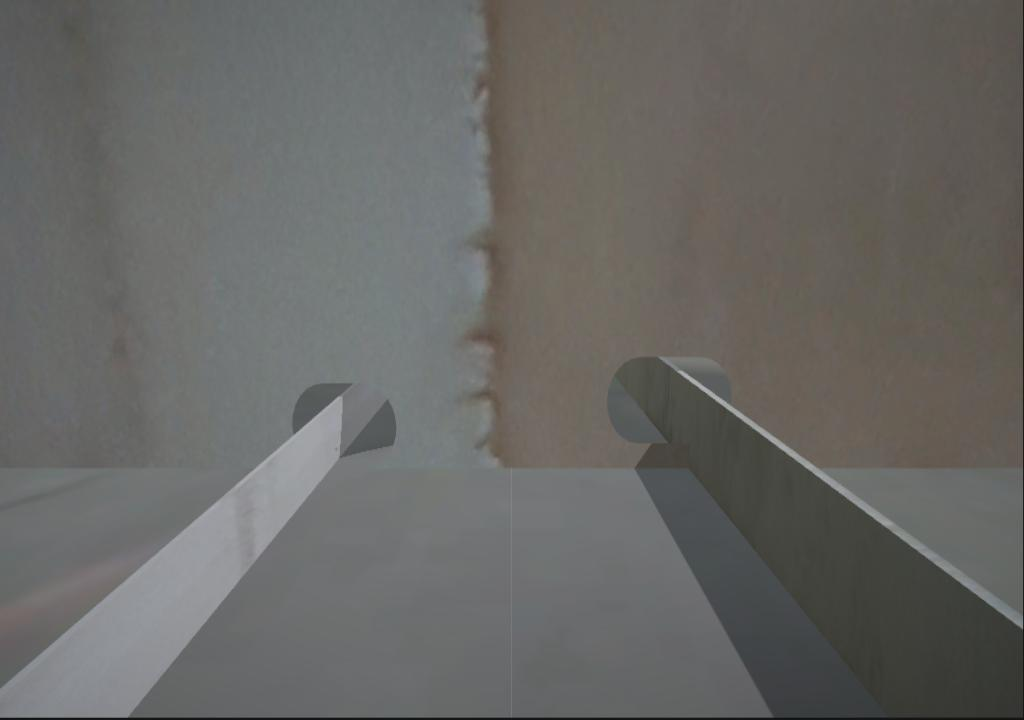fillet_yong_jeop_jang: (367, 458, 688, 475)
longi_yong_jeop_jang: (681, 434, 693, 481)
